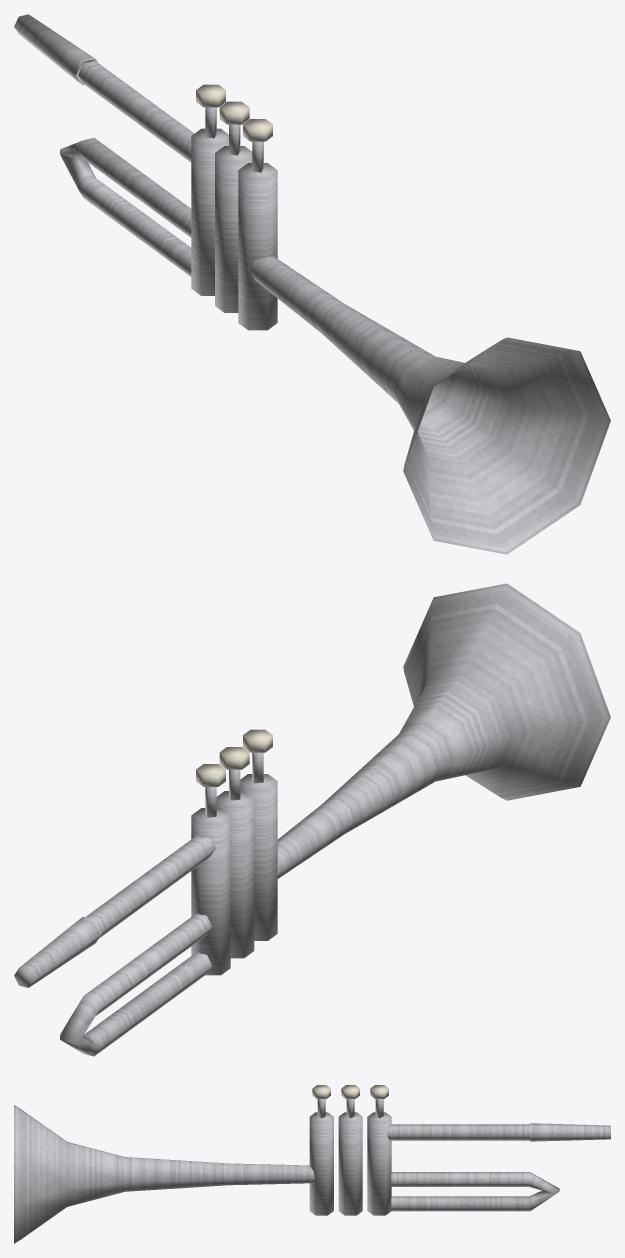
Rendered from trumpet_2.glb.
3 renders of one model, top to bottom at view 1: azimuth 30°, elevation 25°; view 2: azimuth 150°, elevation 25°; view 3: azimuth 270°, elevation 25°, orthographic. The views are drawn at different scales.
Visible parts, largest first — view 1: trumpet_2; view 2: trumpet_2; view 3: trumpet_2.
Boxes of the visible parts, bbox=[...] form: trumpet_2: bbox=[14, 14, 610, 554]; trumpet_2: bbox=[14, 583, 610, 1056]; trumpet_2: bbox=[14, 1085, 610, 1243].
Size of the model in its own units: 0.128 by 0.146 by 0.516.
2 materials, 2 textured.
